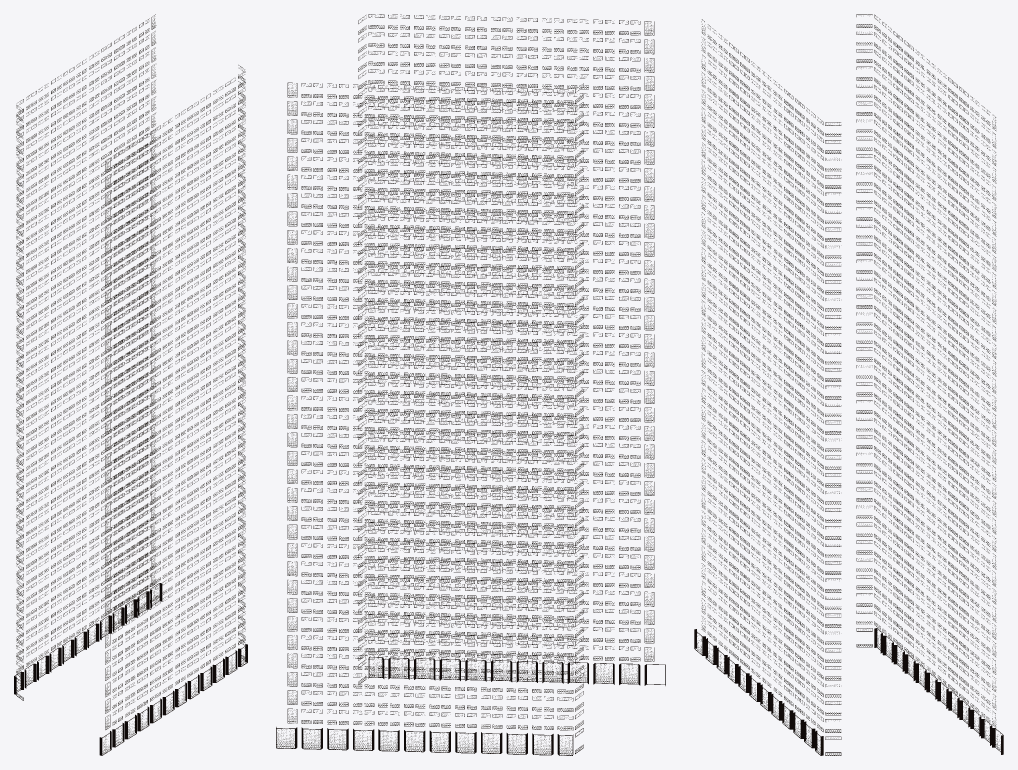
File: bldgTower2Screen.FBX
3 renders of one model, left to right at view 1: azimuth 30°, elevation 25°; view 2: azimuth 150°, elevation 25°; view 3: azimuth 270°, elevation 25°, orthographic. The views are drawn at different scales.
Visible parts, largest first — view 1: mul, mtl screen t2 base, mul frame034, mul frame028, mul frame033, mul frame030, mul frame003, mul frame002, mul frame025, mul frame012, mul frame016, mul frame032 (+60 smaller); view 2: mul, mtl screen t2 base, mul frame031, mul frame014, mul frame005, mul frame018, mul frame022, mul frame034, mul frame032, mul frame001, mul frame026, mul frame009 (+60 smaller); view 3: mul, mtl screen t2 base, mul frame004, mul frame020, mul frame026, mul frame015, mul frame031, mul frame008, mul frame001, mul frame021, mul frame025, mul frame010 (+57 smaller).
Boxes of the visible parts, x1=… form: mul: x1=14, y1=583, x2=247, y2=755; mtl screen t2 base: x1=16, y1=591, x2=247, y2=753; mul frame034: x1=16, y1=14, x2=245, y2=173; mul frame028: x1=17, y1=113, x2=244, y2=271; mul frame033: x1=16, y1=31, x2=245, y2=189; mul frame030: x1=17, y1=80, x2=245, y2=238; mul frame003: x1=17, y1=523, x2=245, y2=680; mul frame002: x1=16, y1=539, x2=244, y2=697; mul frame025: x1=16, y1=162, x2=245, y2=320; mul frame012: x1=17, y1=375, x2=244, y2=533; mul frame016: x1=16, y1=310, x2=245, y2=467; mul frame032: x1=16, y1=47, x2=245, y2=205; mul: x1=276, y1=657, x2=665, y2=755; mtl screen t2 base: x1=276, y1=658, x2=637, y2=755; mul frame031: x1=287, y1=69, x2=654, y2=159; mul frame014: x1=287, y1=382, x2=654, y2=472; mul frame005: x1=287, y1=548, x2=654, y2=638; mul frame018: x1=287, y1=308, x2=654, y2=398; mul frame022: x1=287, y1=235, x2=654, y2=325; mul frame034: x1=287, y1=14, x2=654, y2=104; mul frame032: x1=287, y1=51, x2=654, y2=141; mul frame001: x1=287, y1=621, x2=654, y2=711; mul frame026: x1=287, y1=161, x2=654, y2=251; mul frame009: x1=287, y1=474, x2=654, y2=564; mul: x1=694, y1=628, x2=1003, y2=755; mtl screen t2 base: x1=695, y1=629, x2=1000, y2=755; mul frame004: x1=702, y1=540, x2=995, y2=662; mul frame020: x1=702, y1=259, x2=995, y2=381; mul frame026: x1=702, y1=154, x2=995, y2=276; mul frame015: x1=702, y1=347, x2=995, y2=469; mul frame031: x1=702, y1=66, x2=995, y2=188; mul frame008: x1=702, y1=470, x2=995, y2=592; mul frame001: x1=702, y1=593, x2=995, y2=715; mul frame021: x1=702, y1=242, x2=995, y2=363; mul frame025: x1=702, y1=172, x2=995, y2=294; mul frame010: x1=702, y1=435, x2=994, y2=556.
Bounding box in the file's own units: 50.43 × 137 × 60.78.
2 materials, 1 textured.
